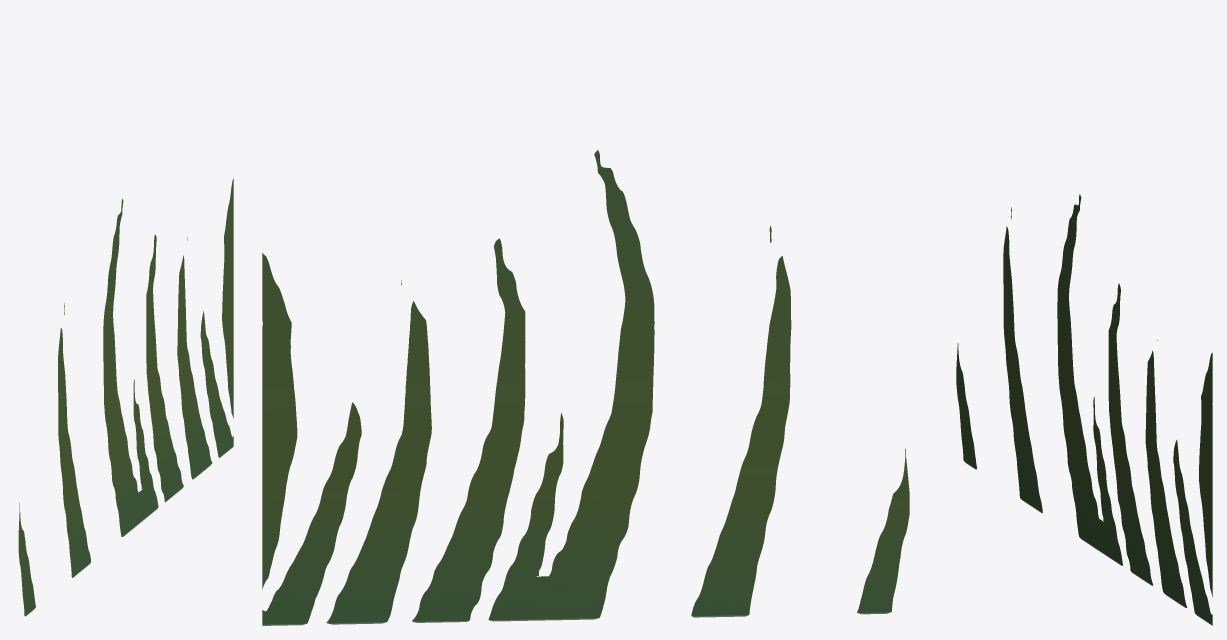
Rendered from 1gras.fbx.
3 renders of one model, left to right at view 1: azimuth 30°, elevation 25°; view 2: azimuth 150°, elevation 25°; view 3: azimuth 270°, elevation 25°, orthographic. The views are drawn at different scales.
Visible parts, largest first — view 1: polySurface484; view 2: polySurface484; view 3: polySurface484.
Part boxes in pixels (x1=…): polySurface484: x1=18, y1=178, x2=233, y2=616; polySurface484: x1=262, y1=150, x2=909, y2=625; polySurface484: x1=956, y1=194, x2=1212, y2=625.
Size of the model in its own units: 0.8421 by 1 by 0.5393.
